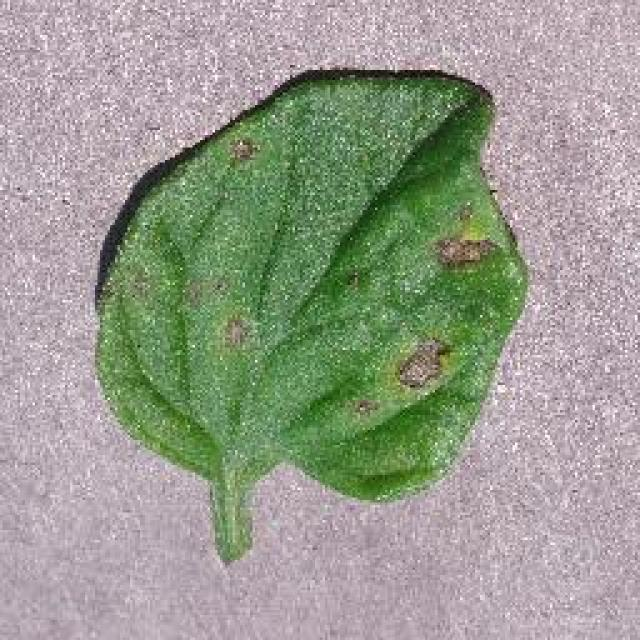Tom_Septoria_leaf_spot: (335, 330, 466, 432), (428, 192, 514, 284), (208, 129, 262, 171)
